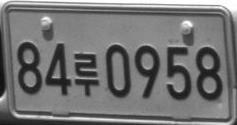0: (104, 43, 131, 98)
4: (45, 42, 71, 95)
5: (166, 46, 192, 101)
8: (194, 45, 223, 100), (16, 40, 42, 94)
9: (133, 44, 161, 98)
루: (74, 52, 99, 96)
